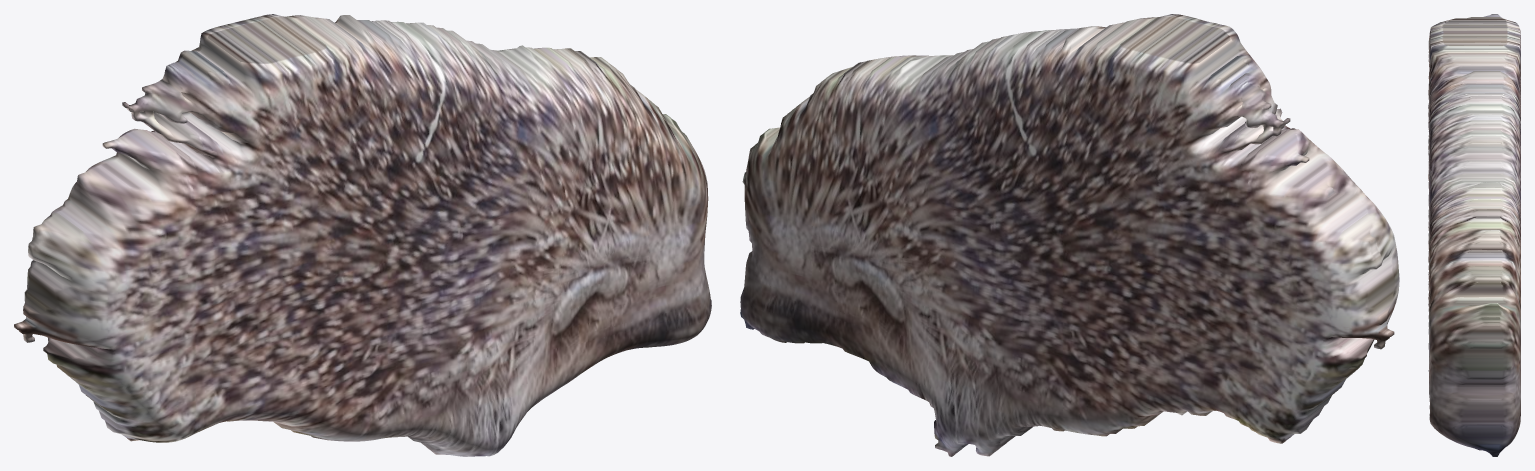
The model's file is hedgehog_203070926.glb.
3 views of the same model, side by side, from view 1: azimuth 30°, elevation 25°; view 2: azimuth 150°, elevation 25°; view 3: azimuth 270°, elevation 25° (orthographic). The views are drawn at different scales.
Visible parts, largest first — view 1: hedgehog_203070926; view 2: hedgehog_203070926; view 3: hedgehog_203070926.
Boxes of the visible parts, x1=… form: hedgehog_203070926: x1=14, y1=14, x2=711, y2=456; hedgehog_203070926: x1=740, y1=14, x2=1399, y2=456; hedgehog_203070926: x1=1428, y1=14, x2=1520, y2=456.
Bounding box in the file's own units: 1.97 × 1.32 × 0.3326.
Materials: 1 (1 with a texture image).
